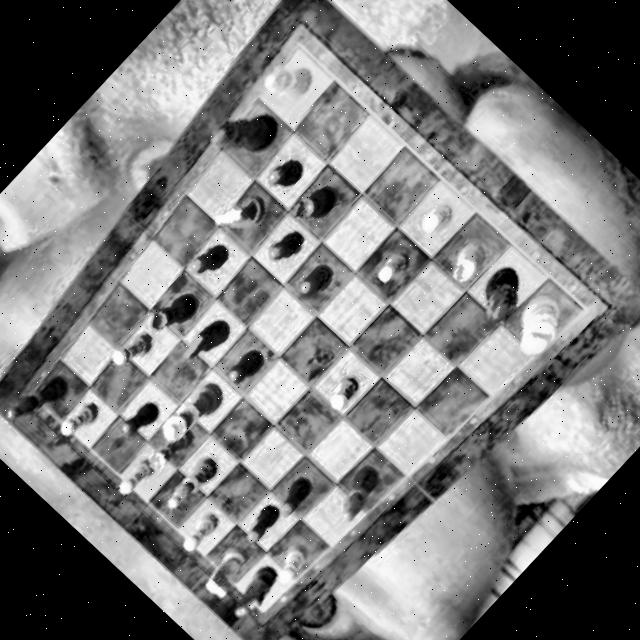black-bishop: (5, 364, 72, 434), (326, 463, 386, 525)
black-king: (468, 259, 536, 327)
black-knight: (223, 561, 284, 623), (180, 311, 236, 368)
black-pawn: (186, 237, 234, 285), (272, 474, 317, 520), (118, 397, 163, 443), (239, 501, 283, 546), (264, 152, 308, 196), (225, 343, 268, 388), (266, 225, 308, 269), (296, 262, 336, 302)
black-queen: (203, 92, 284, 174)
black-rook: (144, 284, 202, 342), (292, 179, 343, 231)
white-bishop: (162, 452, 222, 514), (260, 52, 318, 110)
white-king: (502, 286, 576, 361)
white-knight: (211, 184, 269, 243), (201, 541, 258, 599)
white-pawn: (110, 326, 160, 376), (177, 509, 222, 556), (269, 540, 314, 586), (114, 453, 158, 499), (58, 397, 102, 442), (372, 248, 414, 290), (418, 198, 458, 240), (324, 372, 364, 413)
white-queen: (156, 374, 230, 450)
white-rook: (144, 422, 197, 477), (442, 237, 490, 285)
